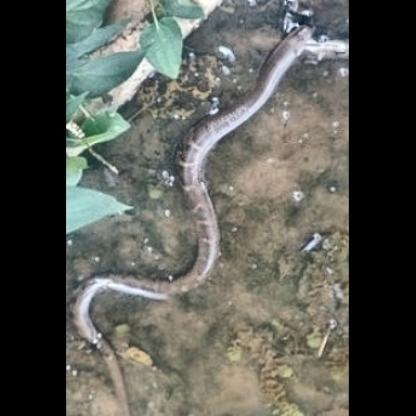Snake: (71, 17, 336, 408)
